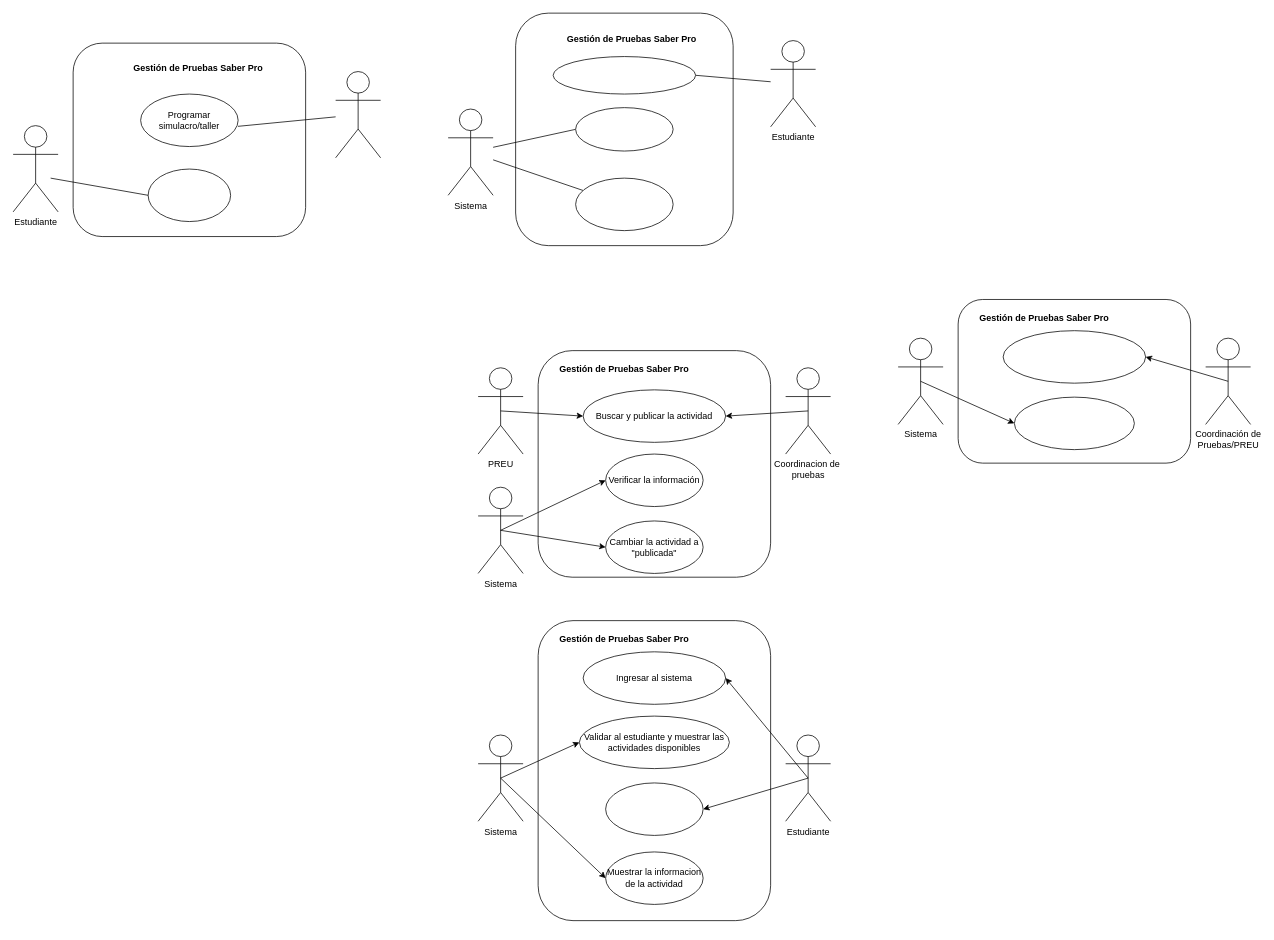
This 1274x940 diagram has some shape labels left out. Here are the shapes that lost their labels. From the top down, the box of each, then its label:
(552, 56, 696, 94): Inscribir una actividad
(335, 71, 381, 158): Coordinador
(575, 107, 673, 151): Validar al estudiante
(147, 168, 231, 222): Inscribir simulacro/taller
(575, 177, 673, 231): Registrar la inscripcion
(1002, 330, 1146, 383): Buscar una actividad
(1014, 396, 1134, 450): Muestrar las inscripciones realizadas
(605, 782, 703, 835): Seleccionar la activivdad
